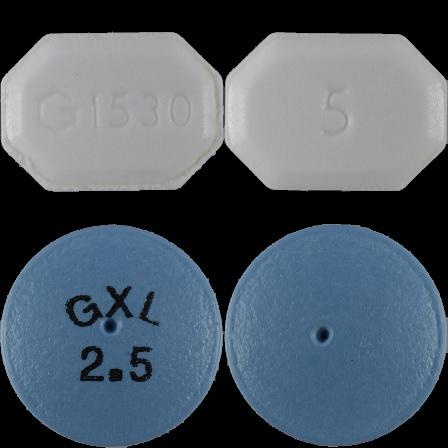55154-0535: (0, 0, 224, 224)
